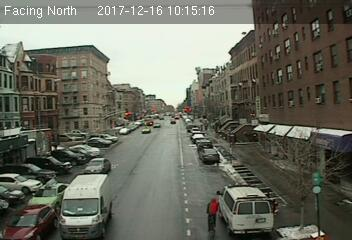bicycle: (205, 197, 220, 239)
car: (2, 205, 55, 240), (28, 177, 68, 208), (81, 157, 111, 174), (201, 147, 220, 162)
police: (216, 182, 276, 238)
truck: (61, 174, 117, 240)
